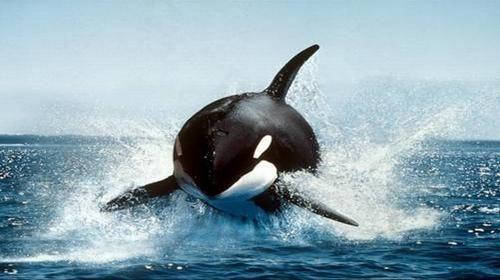fish: (92, 44, 349, 229)
